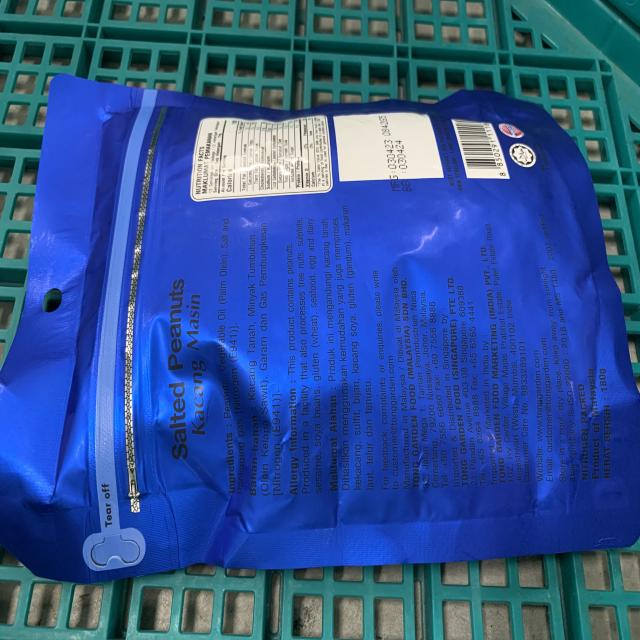object_name: (28, 87, 640, 554)
